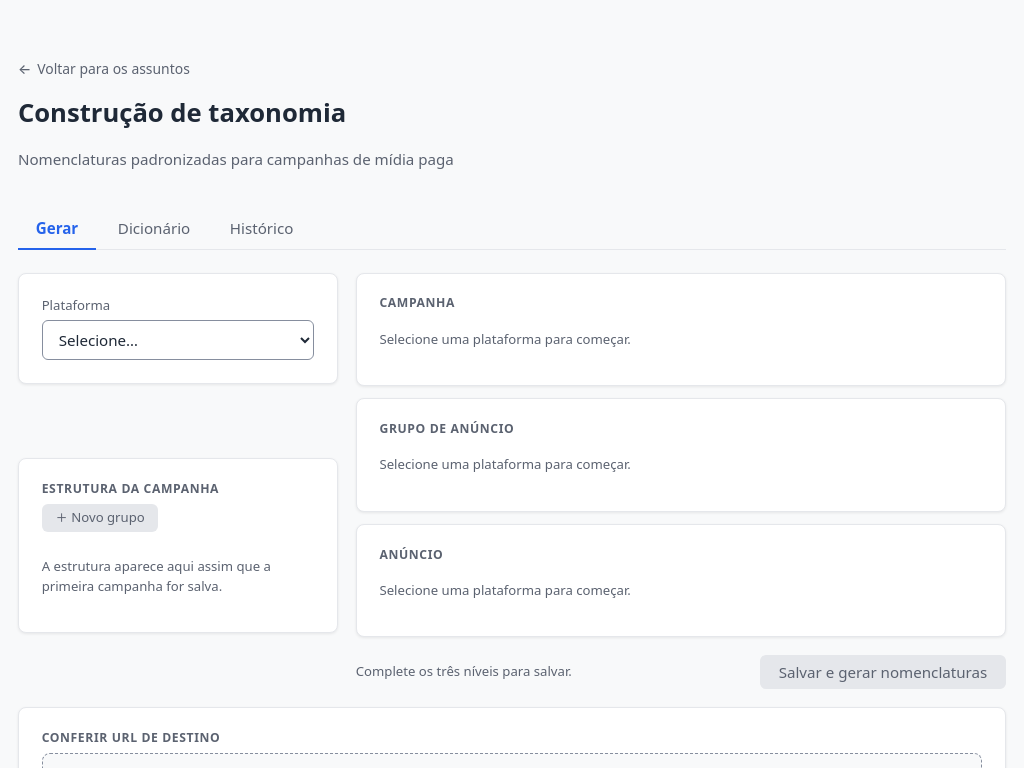
aba Dicionário › mostra o escopo: global ou de uma plataforma só
expect the tab "Gerar" is shown: met, box [18,209,96,250]
Click the tab "Dicionário" at (154, 229), box [100,209,208,250]
(page scrolled)
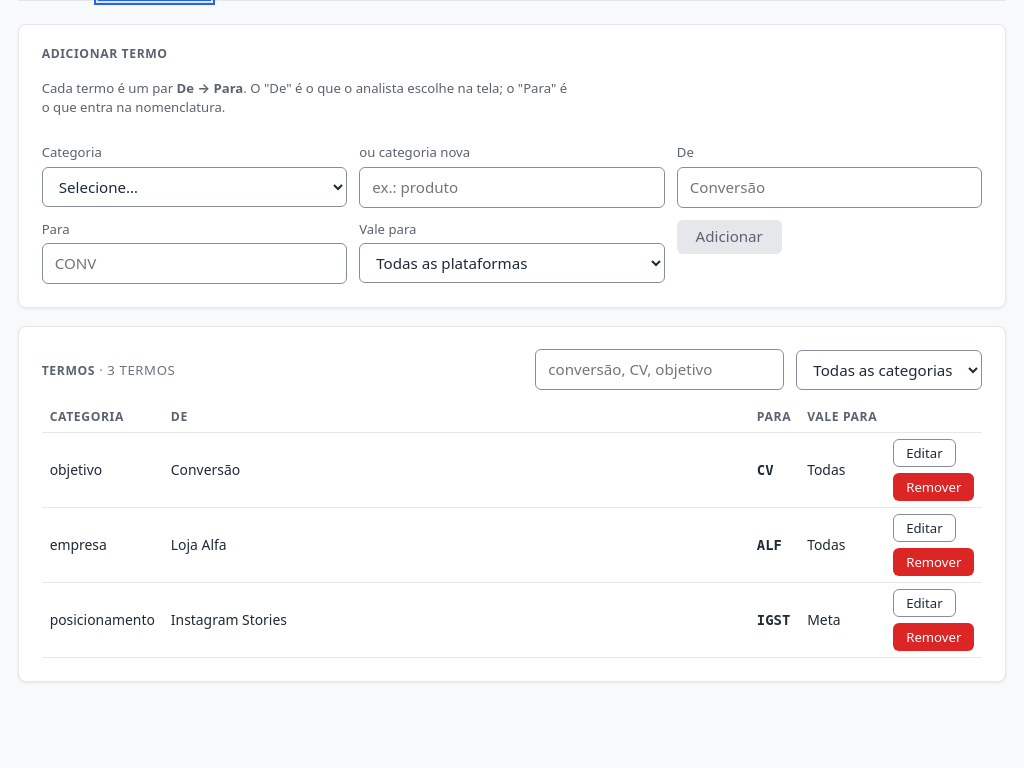
expect the text "Instagram Stories" is shown: met, box [163,583,749,658]
expect the text "Meta" is shown: met, box [799,583,885,658]
expect the text "Todas" in the row of "empresa" is shown: met, box [807,535,845,554]
